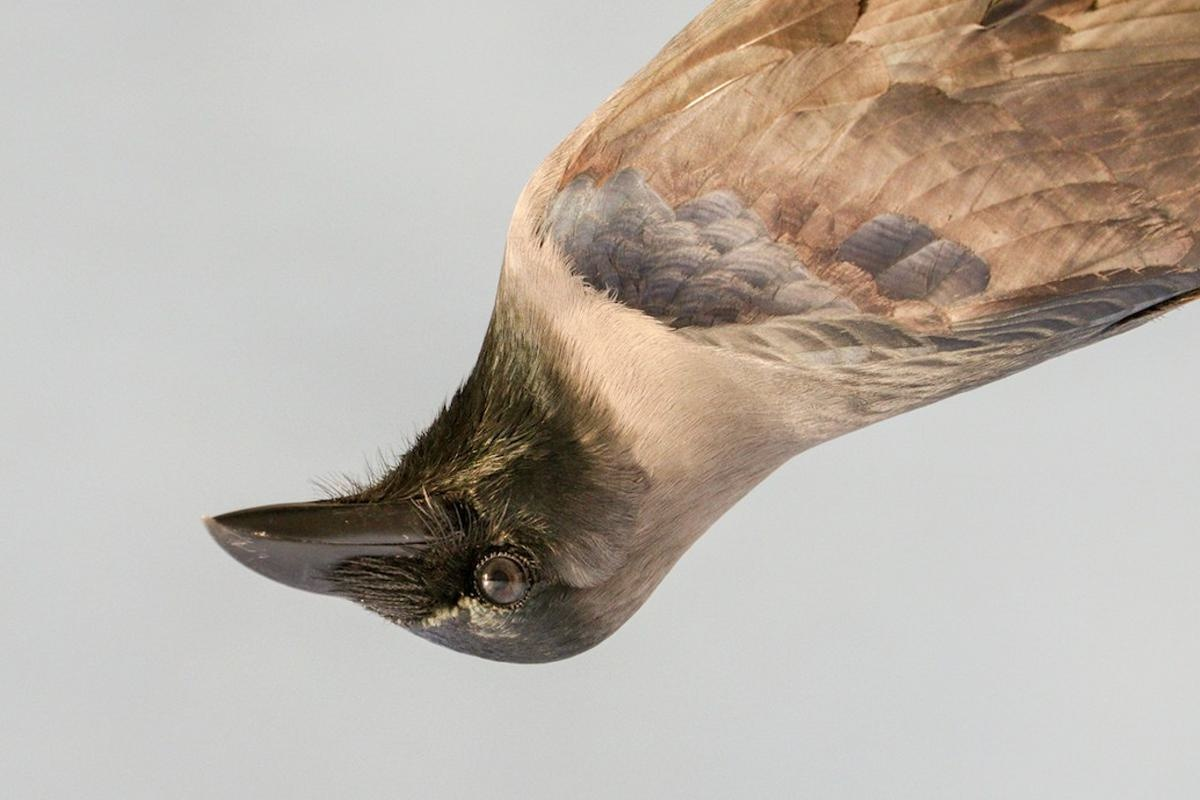crow: (198, 1, 1200, 668)
